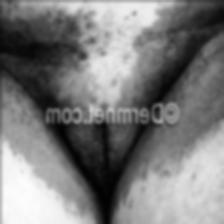Non-Cancerous Skin Condition: (137, 0, 224, 175), (0, 1, 90, 68)
